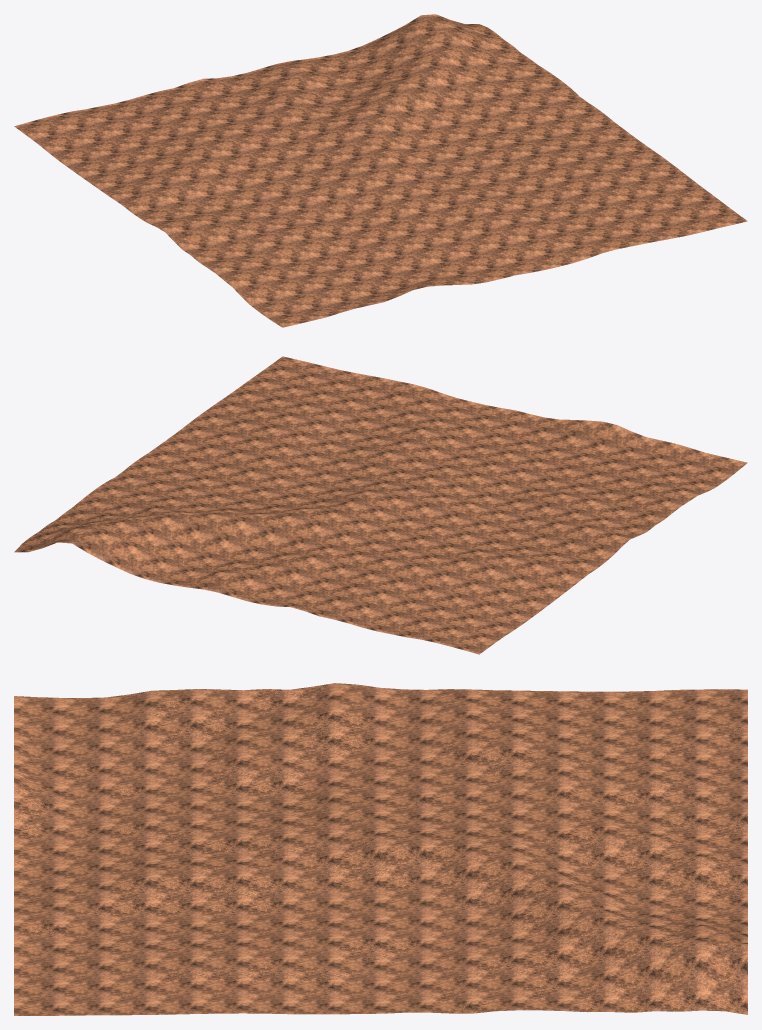
The model's file is terrain_03_07.dae.
3 views of the same model, one above another, from view 1: azimuth 30°, elevation 25°; view 2: azimuth 150°, elevation 25°; view 3: azimuth 270°, elevation 25° (orthographic). The views are drawn at different scales.
Visible parts, largest first — view 1: terrain_03_07-node; view 2: terrain_03_07-node; view 3: terrain_03_07-node.
Part boxes in pixels (box(x1,y1,x2,y2)): terrain_03_07-node: box(14, 14, 747, 327); terrain_03_07-node: box(14, 356, 747, 654); terrain_03_07-node: box(14, 683, 747, 1015).
Bounding box in the file's own units: 128 × 128 × 6.48.
Materials: 1 (1 with a texture image).
